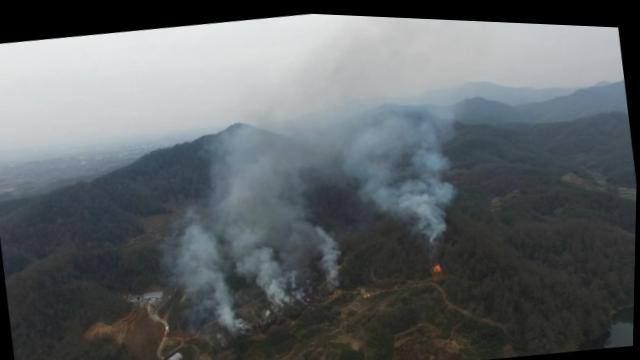fire: (274, 254, 350, 321), (413, 241, 462, 291)
